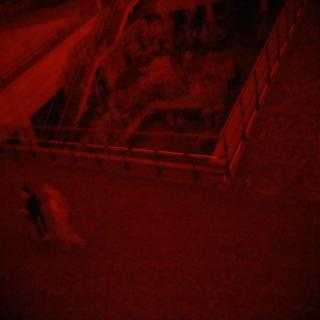person: (42, 177, 85, 256), (13, 174, 45, 264)
